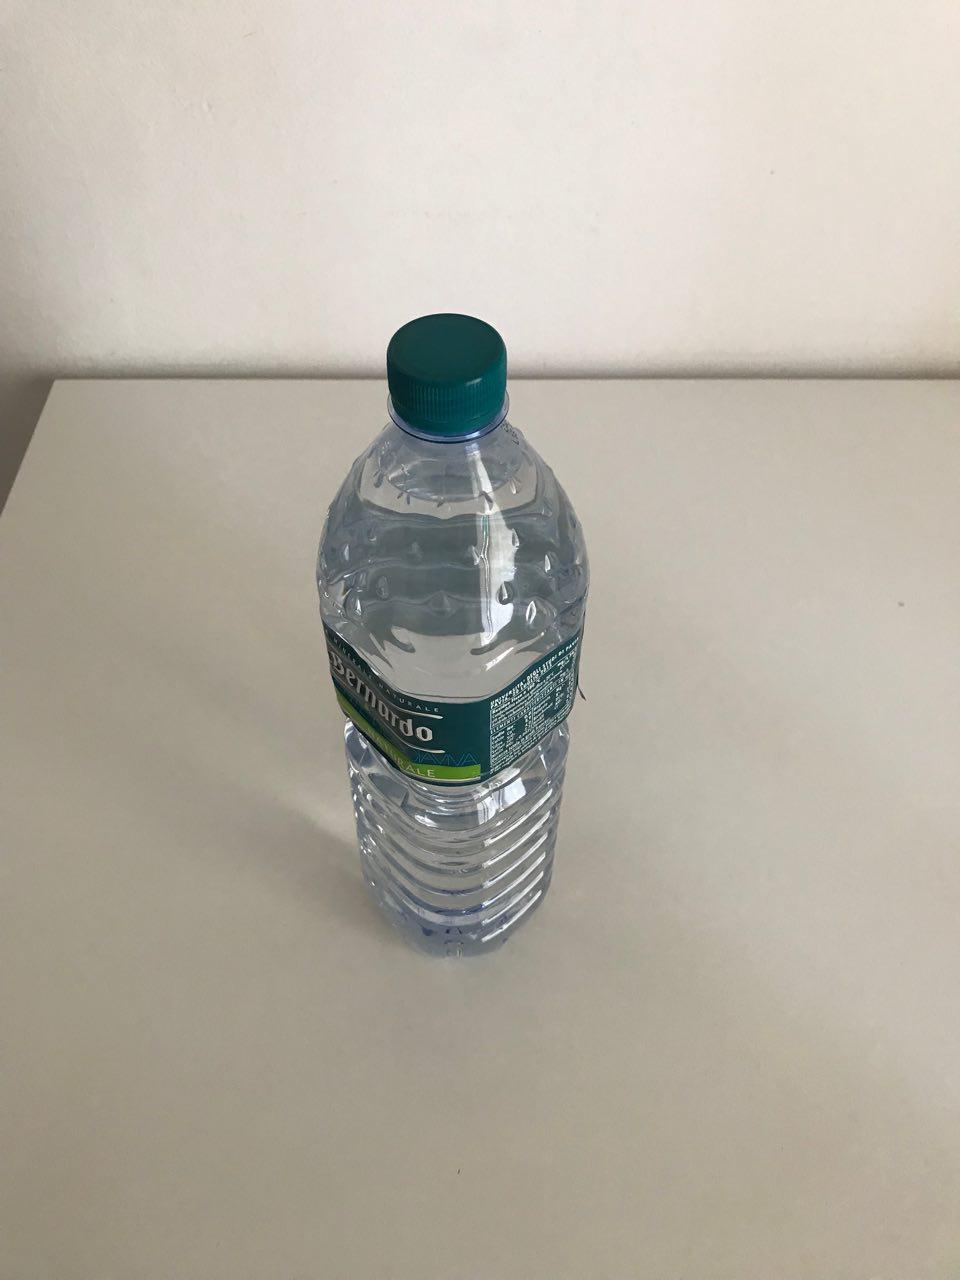san_bernardo: (315, 310, 592, 961)
